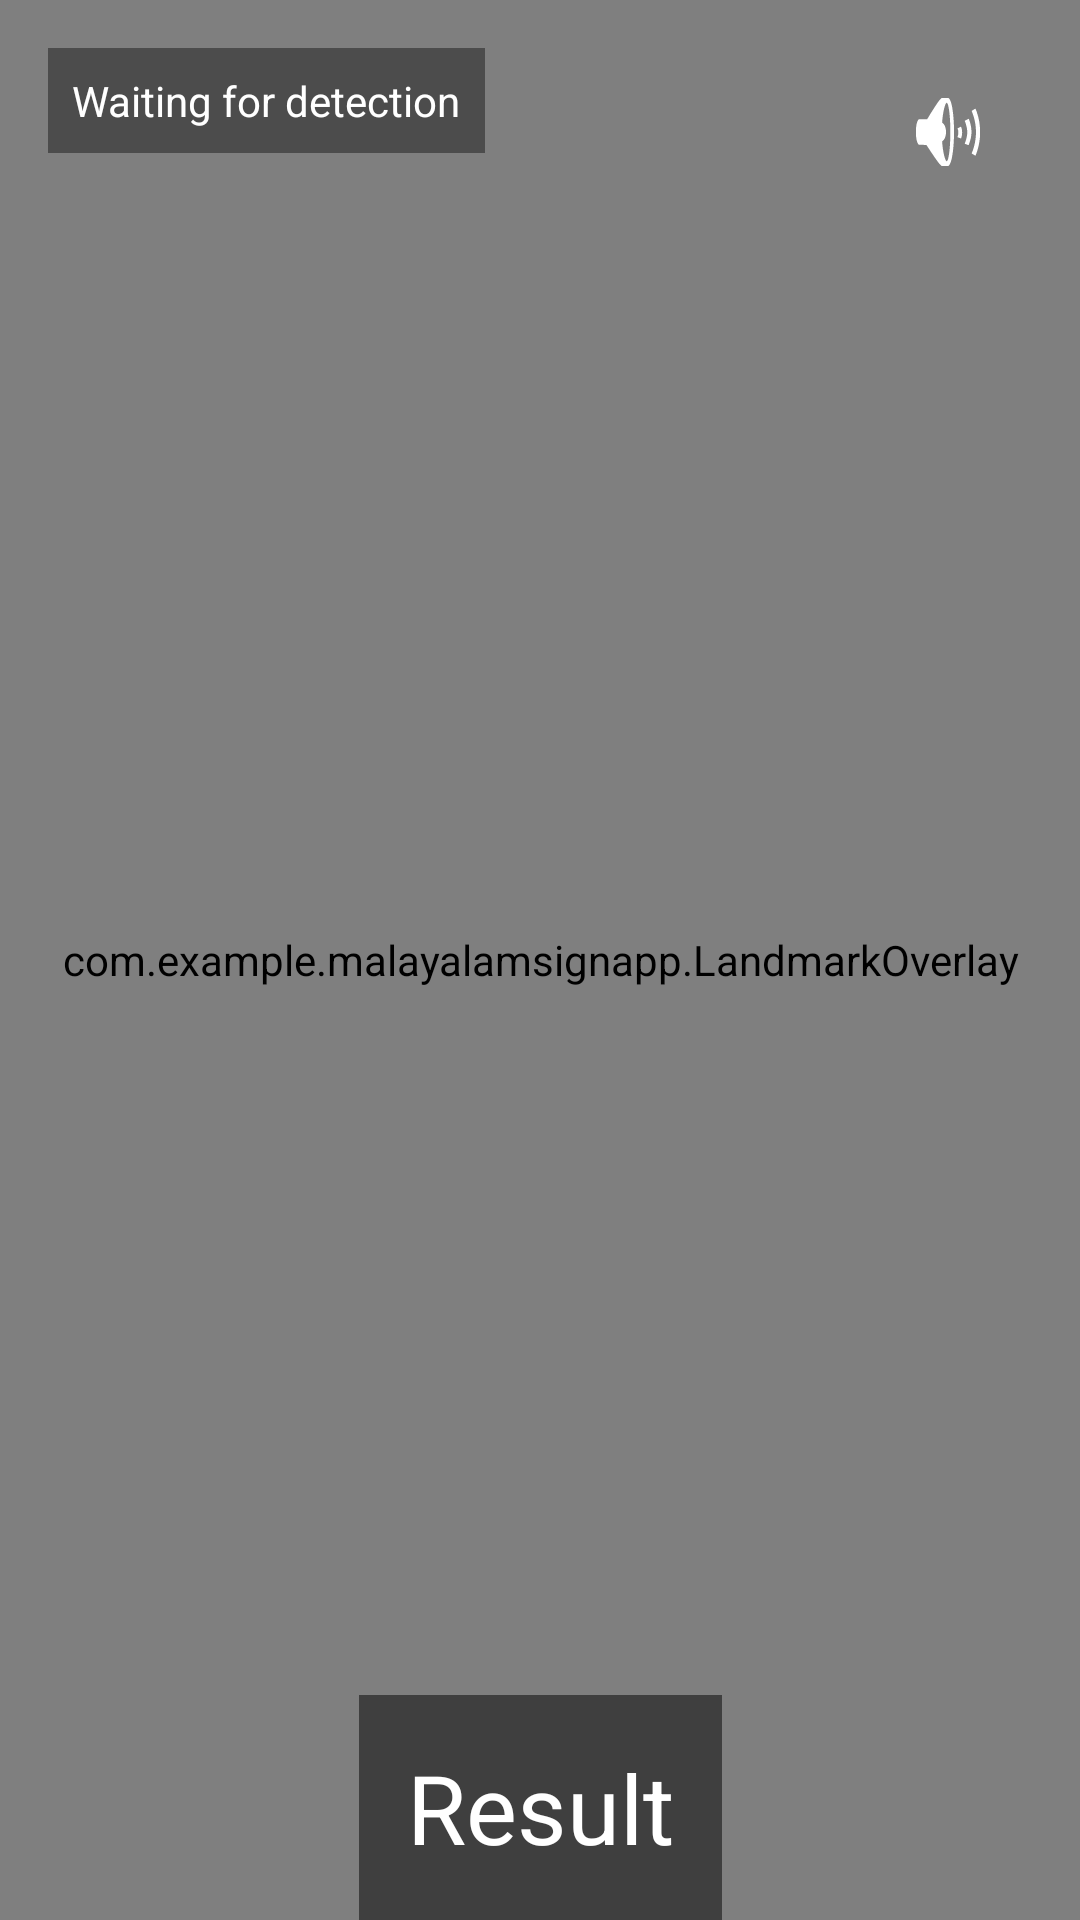

Screen size 1080px×1920px. Icon name, then its box in pixels as {"x1": x1, "y1": y1, "x2": x2, "y2": y2}:
Toggle Speaker: {"x1": 916, "y1": 98, "x2": 980, "y2": 166}
